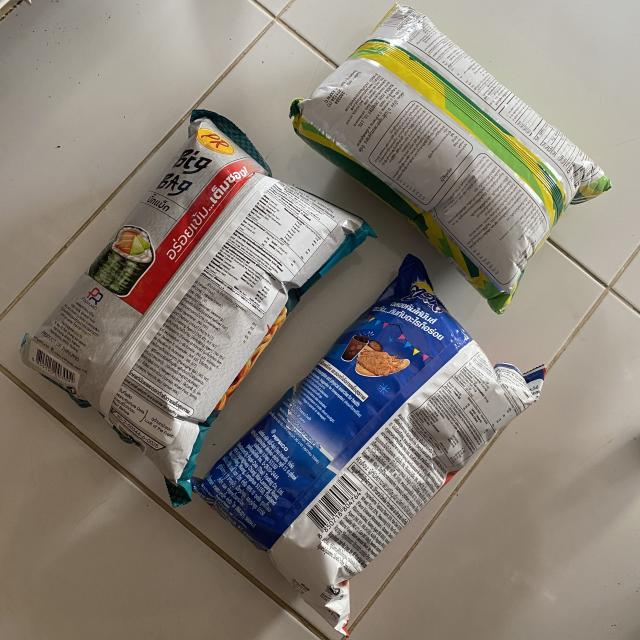plastik: (20, 110, 374, 506), (195, 255, 545, 635), (290, 4, 610, 312)
